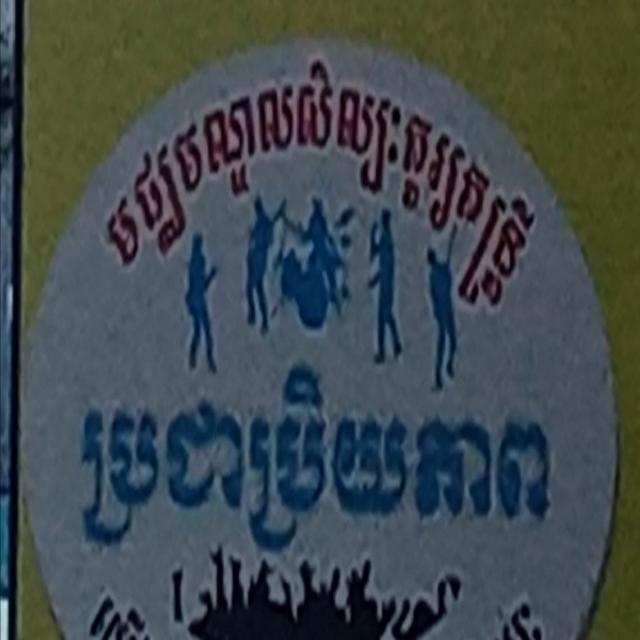Yolov11kh: (90, 45, 559, 369)
